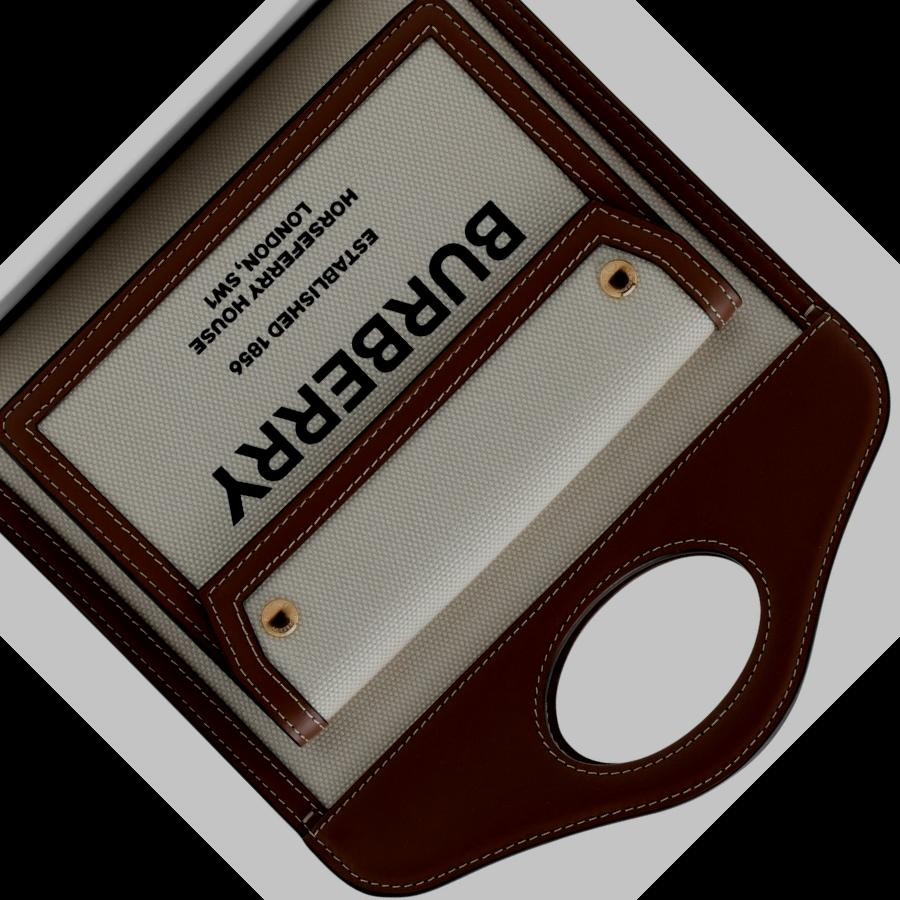BURBERRY: (195, 197, 527, 529)
